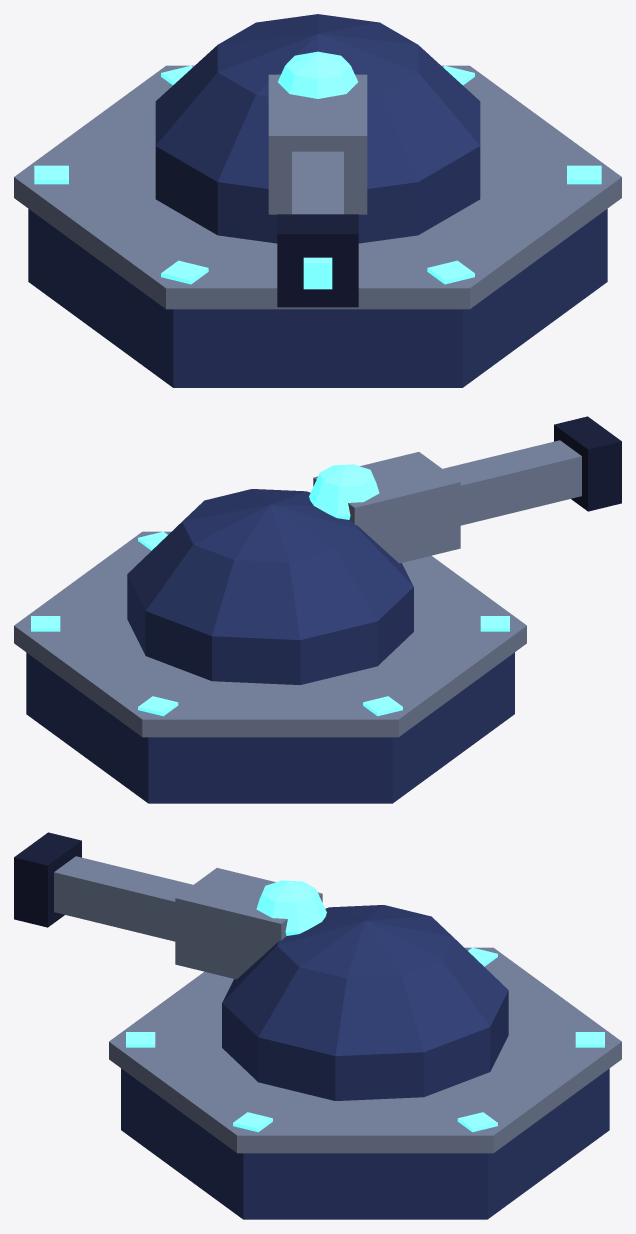
File: picket.glb
3 views of the same model, one above another, from view 1: azimuth 30°, elevation 25°; view 2: azimuth 150°, elevation 25°; view 3: azimuth 270°, elevation 25° (orthographic). The views are drawn at different scales.
Parts seen in each view (by area): view 1: Picket; view 2: Picket; view 3: Picket.
Boxes of the visible parts, left/top/right/bottom form: Picket: left=14, top=14, right=621, bottom=387; Picket: left=14, top=416, right=621, bottom=803; Picket: left=14, top=832, right=621, bottom=1219.
Size of the model in its own units: 1.82 by 1.09 by 2.49.
